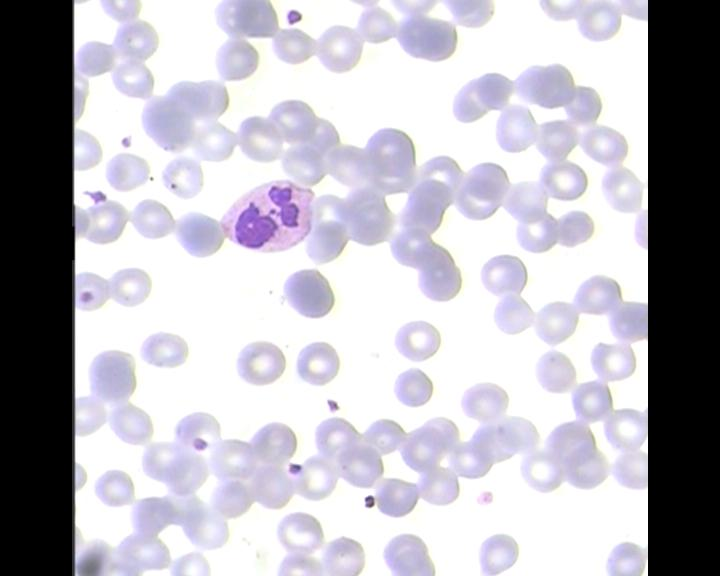neut: (215, 179, 316, 254)
